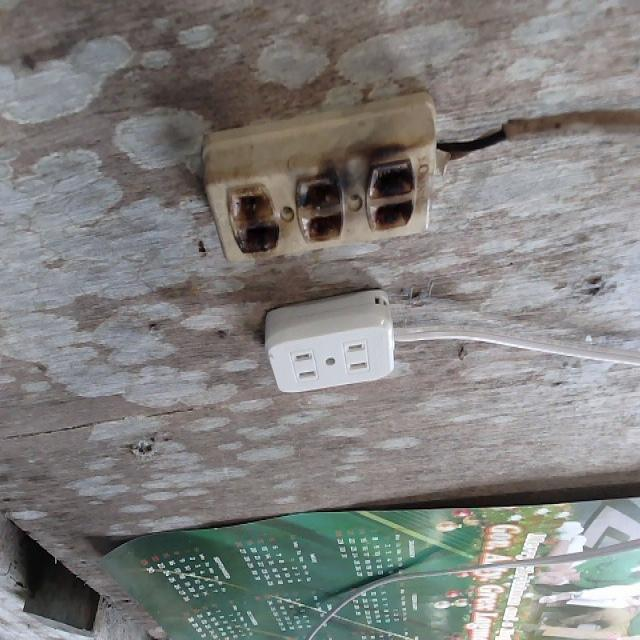-: (219, 156, 417, 255)
